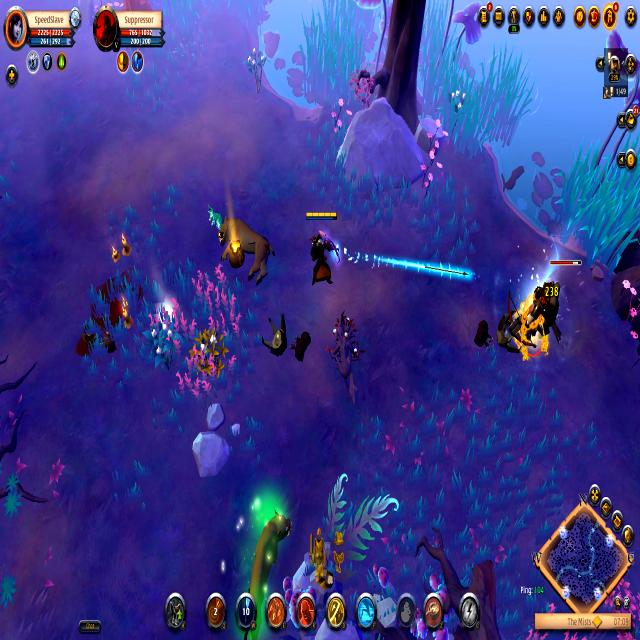hide: (144, 298, 180, 374), (191, 321, 225, 380), (244, 39, 270, 94)
mob: (214, 207, 279, 287)
ore: (502, 251, 583, 358), (240, 497, 296, 639), (322, 307, 365, 408)
red: (301, 208, 340, 290)
